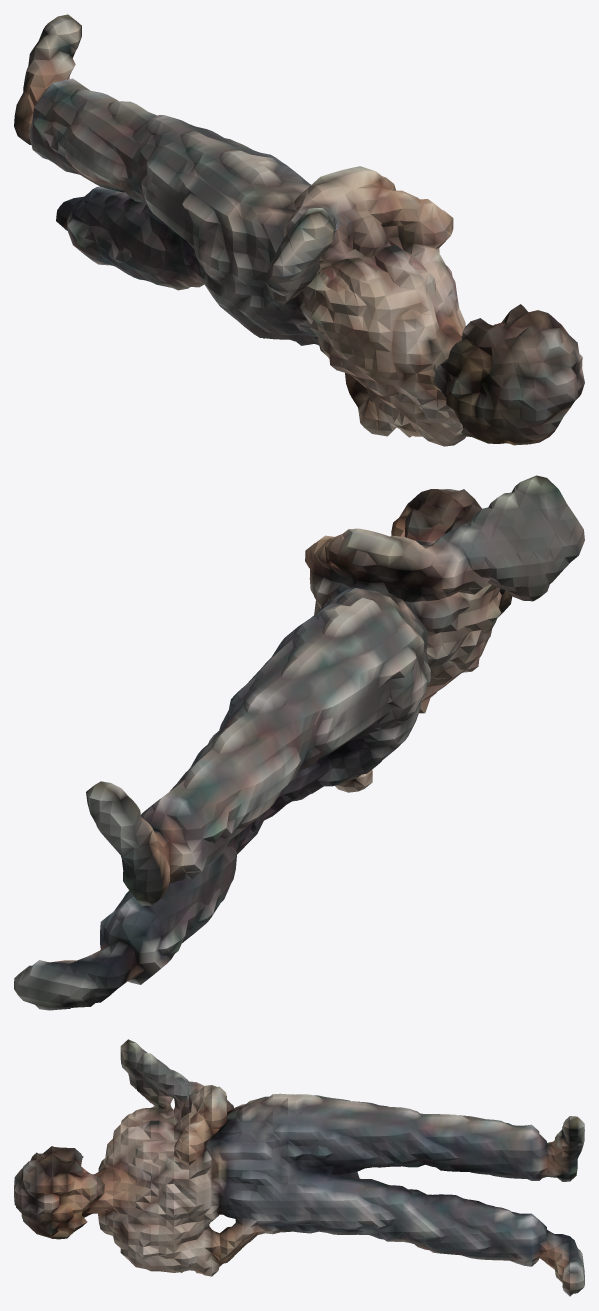
The picture shows the model from 3 angles, top to bottom: view 1: azimuth 30°, elevation 25°; view 2: azimuth 150°, elevation 25°; view 3: azimuth 270°, elevation 25°; orthographic projection. The views are drawn at different scales.
Parts seen in each view (by area): view 1: world; view 2: world; view 3: world.
Boxes of the visible parts, x1,y1,x2,y2 form: world: (14,14,584,446); world: (14,475,584,1010); world: (14,1039,584,1296).
Size of the model in its own units: 0.3379 by 0.4084 by 1.03.
